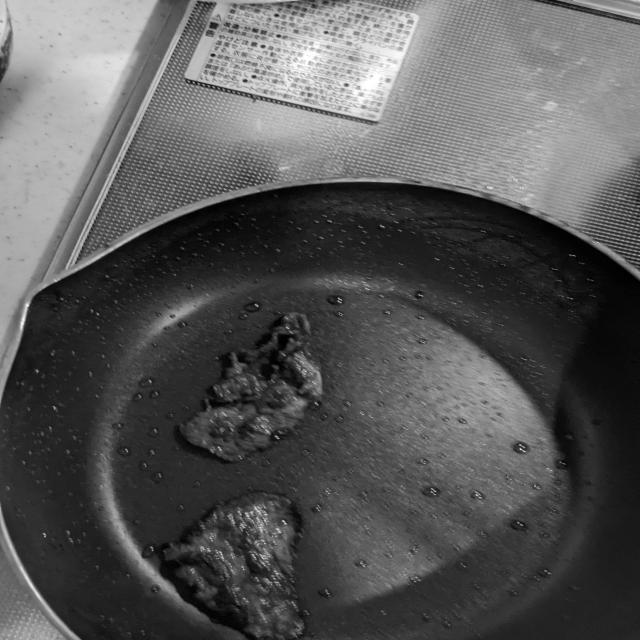overcooked beef,: (120, 493, 318, 640), (166, 306, 329, 474)
